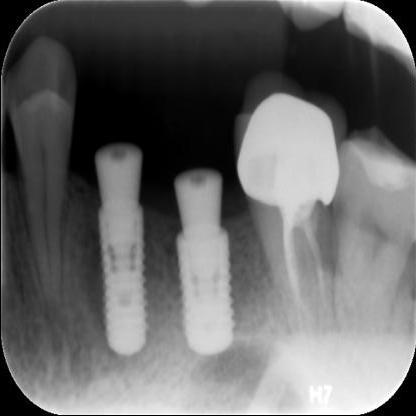ITI: (94, 205, 154, 357), (172, 234, 240, 354)
